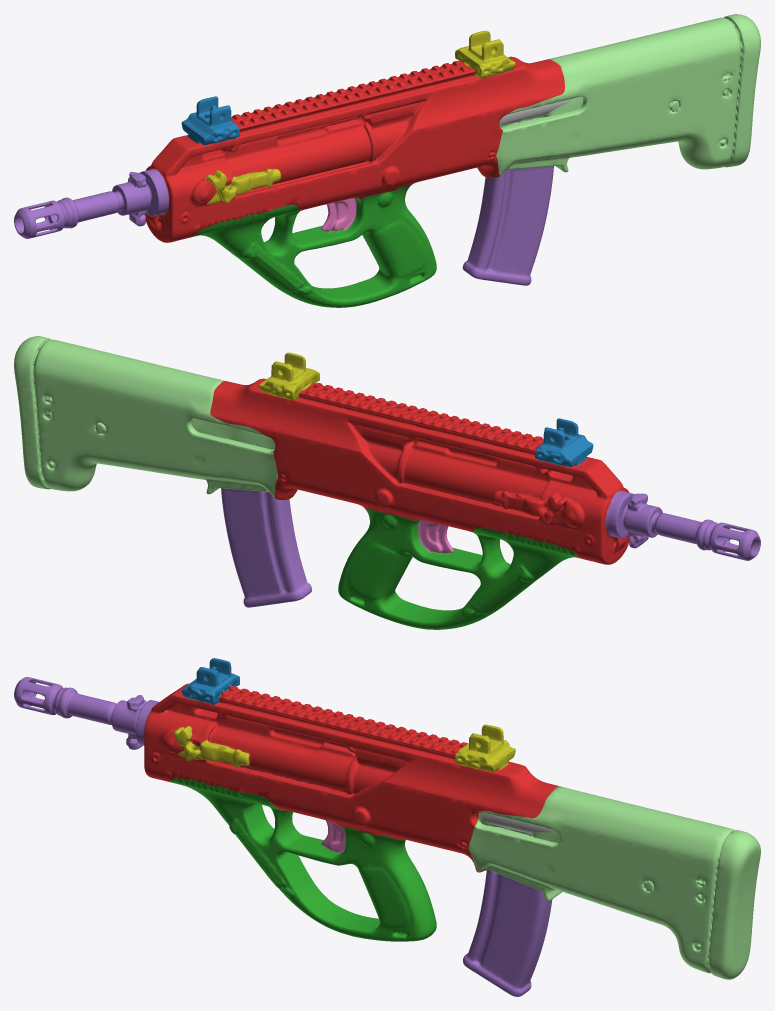
Rendered from olive-bullpup.glb.
The picture shows the model from 3 angles, top to bottom: view 1: azimuth 30°, elevation 25°; view 2: azimuth 150°, elevation 25°; view 3: azimuth 330°, elevation 25°; orthographic projection.
Visible parts, largest first — view 1: model_part10, model_part9, model_part7, model_part6, model_part0, model_part5, model_part2, model_part1, model_part4, model_part8; view 2: model_part10, model_part9, model_part7, model_part6, model_part0, model_part5, model_part2, model_part4; view 3: model_part10, model_part9, model_part7, model_part6, model_part0, model_part2, model_part5, model_part1, model_part8.
Part boxes in pixels (x1,y1,x2,y2): model_part10: (144,56,564,242); model_part9: (496,14,760,176); model_part7: (191,185,436,307); model_part6: (462,166,553,285); model_part0: (14,169,168,238); model_part5: (181,96,239,145); model_part2: (455,30,515,78); model_part1: (205,169,280,204); model_part4: (321,198,356,231); model_part8: (499,98,572,125); model_part10: (210,378,630,564); model_part9: (14,336,277,497); model_part7: (338,509,581,629); model_part6: (221,488,311,607); model_part0: (606,491,760,560); model_part5: (535,418,593,467); model_part2: (259,352,319,400); model_part4: (418,520,453,553); model_part10: (144,683,558,872); model_part9: (468,786,760,979); model_part7: (170,778,436,941); model_part6: (463,869,552,996); model_part0: (14,677,158,749); model_part2: (455,724,515,771); model_part5: (181,658,239,704); model_part1: (174,726,249,767); model_part8: (480,813,554,833).
Size of the model in its own units: 0.72 by 0.2377 by 0.069.
